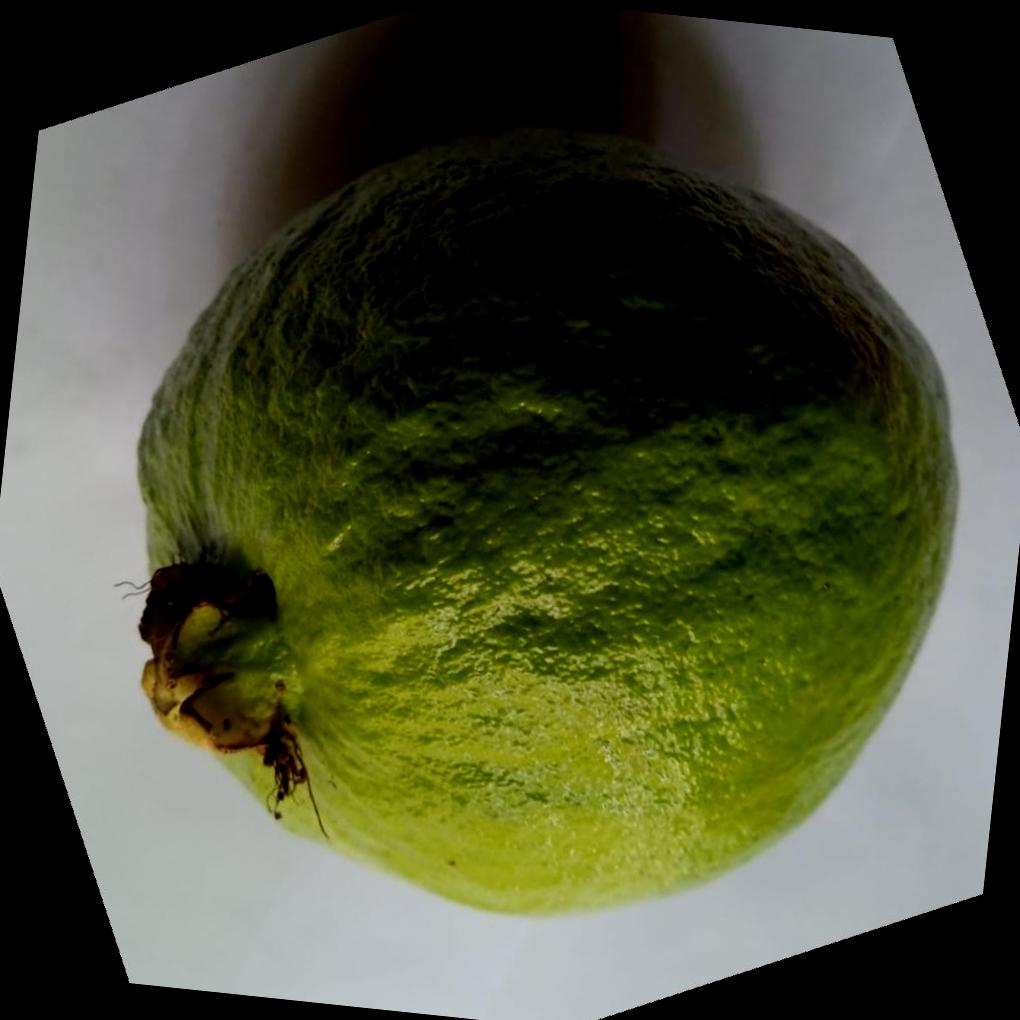FreshGuava: (129, 121, 955, 919)
